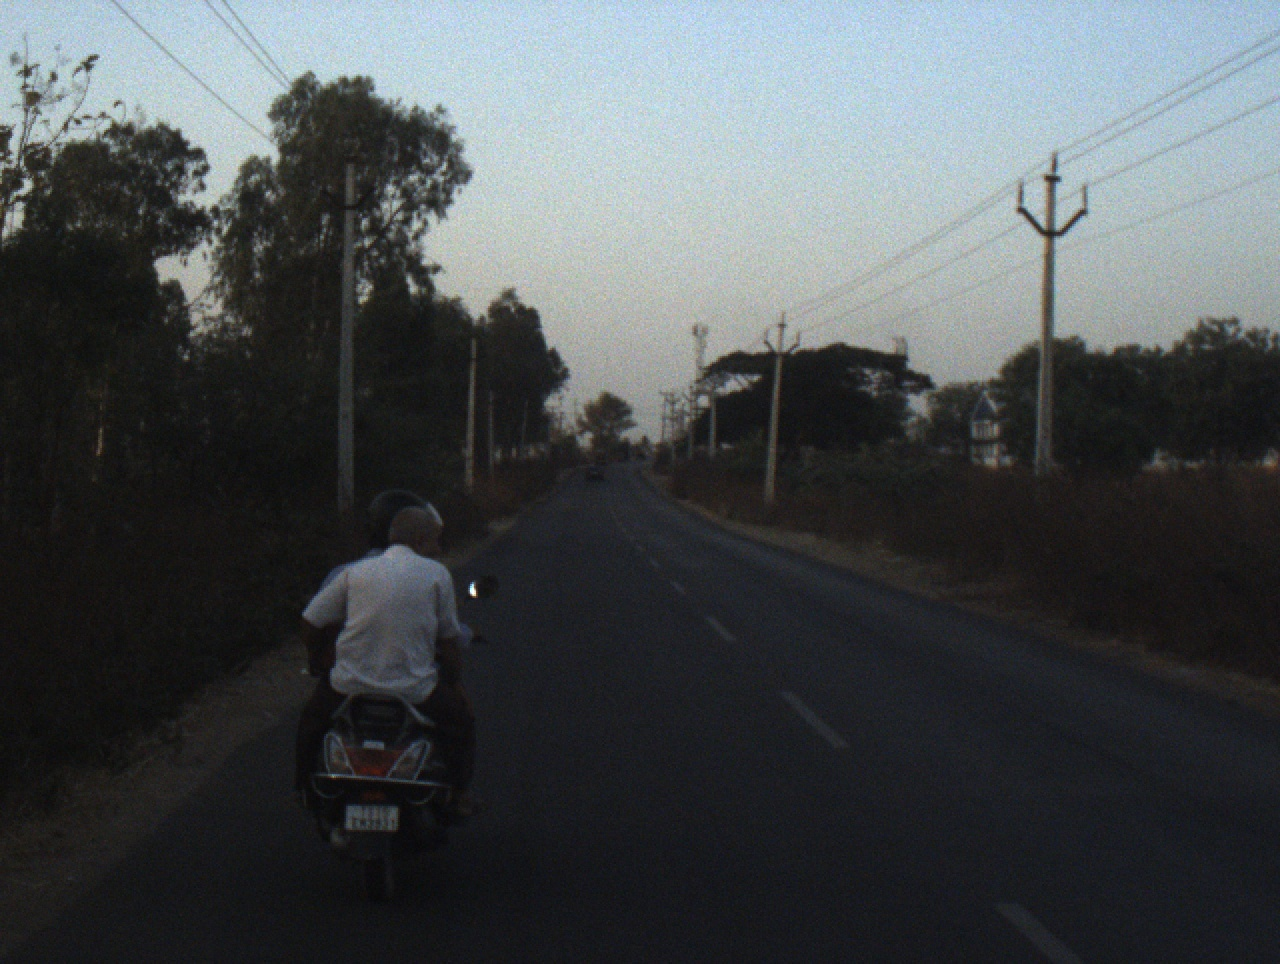autorickshaw: (593, 448, 610, 469)
car: (583, 458, 604, 482), (613, 449, 628, 464)
motorcycle: (305, 556, 503, 911)
rider: (292, 509, 493, 831), (297, 492, 478, 649)
